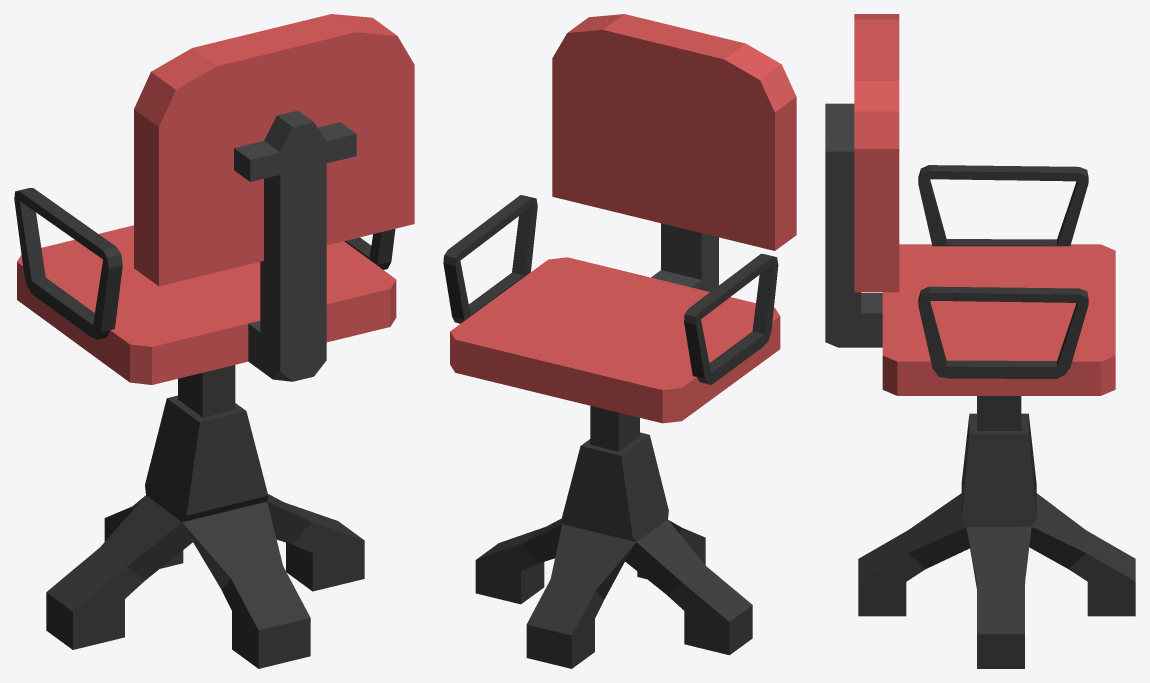
File: Chair.fbx
3 renders of one model, left to right at view 1: azimuth 30°, elevation 25°; view 2: azimuth 150°, elevation 25°; view 3: azimuth 270°, elevation 25°, orthographic. The views are drawn at different scales.
Parts seen in each view (by area): view 1: Chair; view 2: Chair; view 3: Chair.
Boxes of the visible parts, x1,y1,x2,y2 form: Chair: [14, 14, 414, 668]; Chair: [443, 14, 796, 668]; Chair: [825, 14, 1135, 668].
Size of the model in its own units: 183 by 366 by 186.
